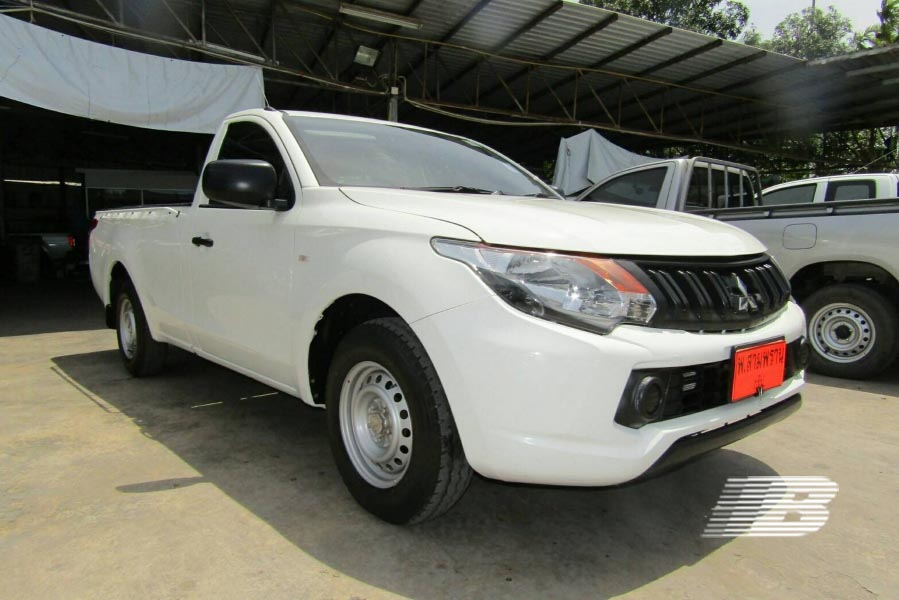pickup: (78, 107, 813, 541)
